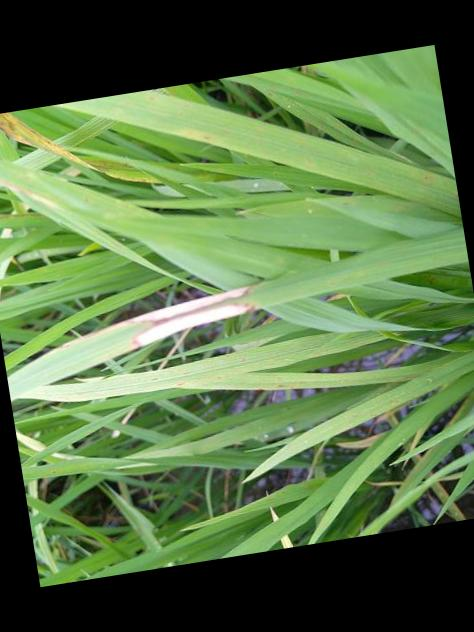Leaf Blight: (0, 113, 160, 183), (116, 287, 252, 350)
